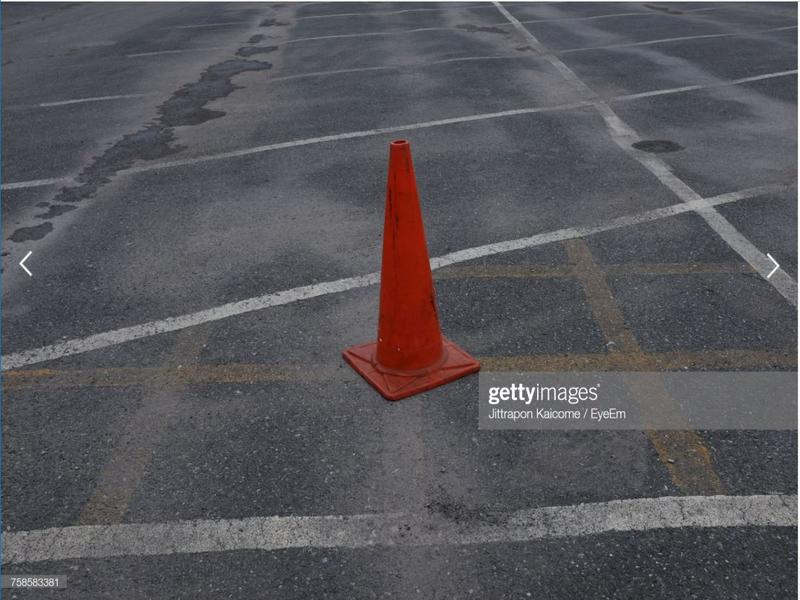Cone: (341, 139, 479, 401)
